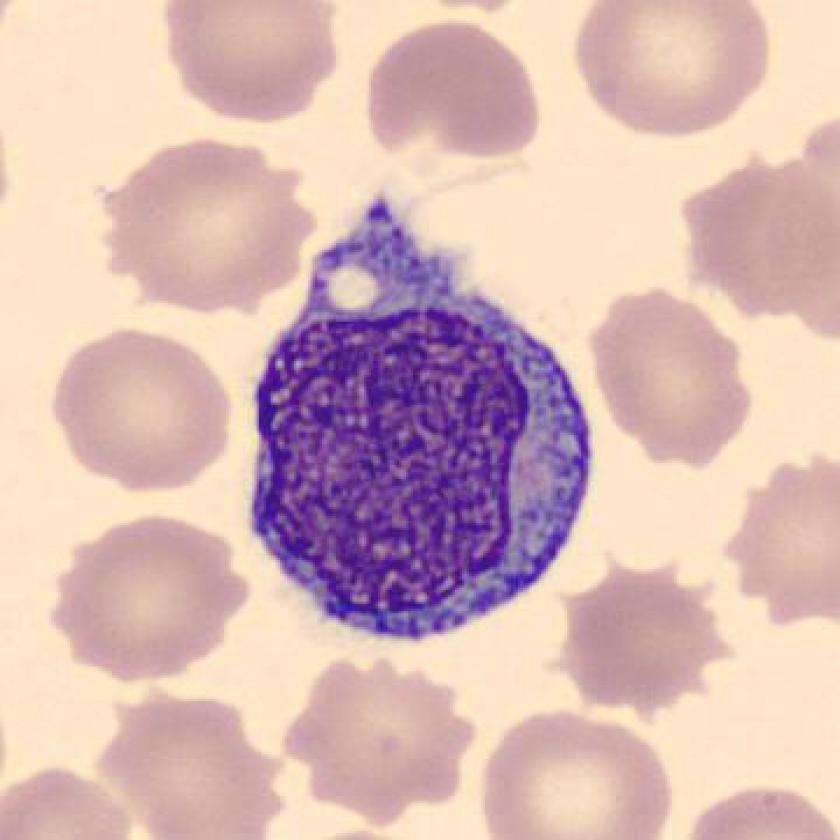monocyte: (227, 165, 617, 663)
